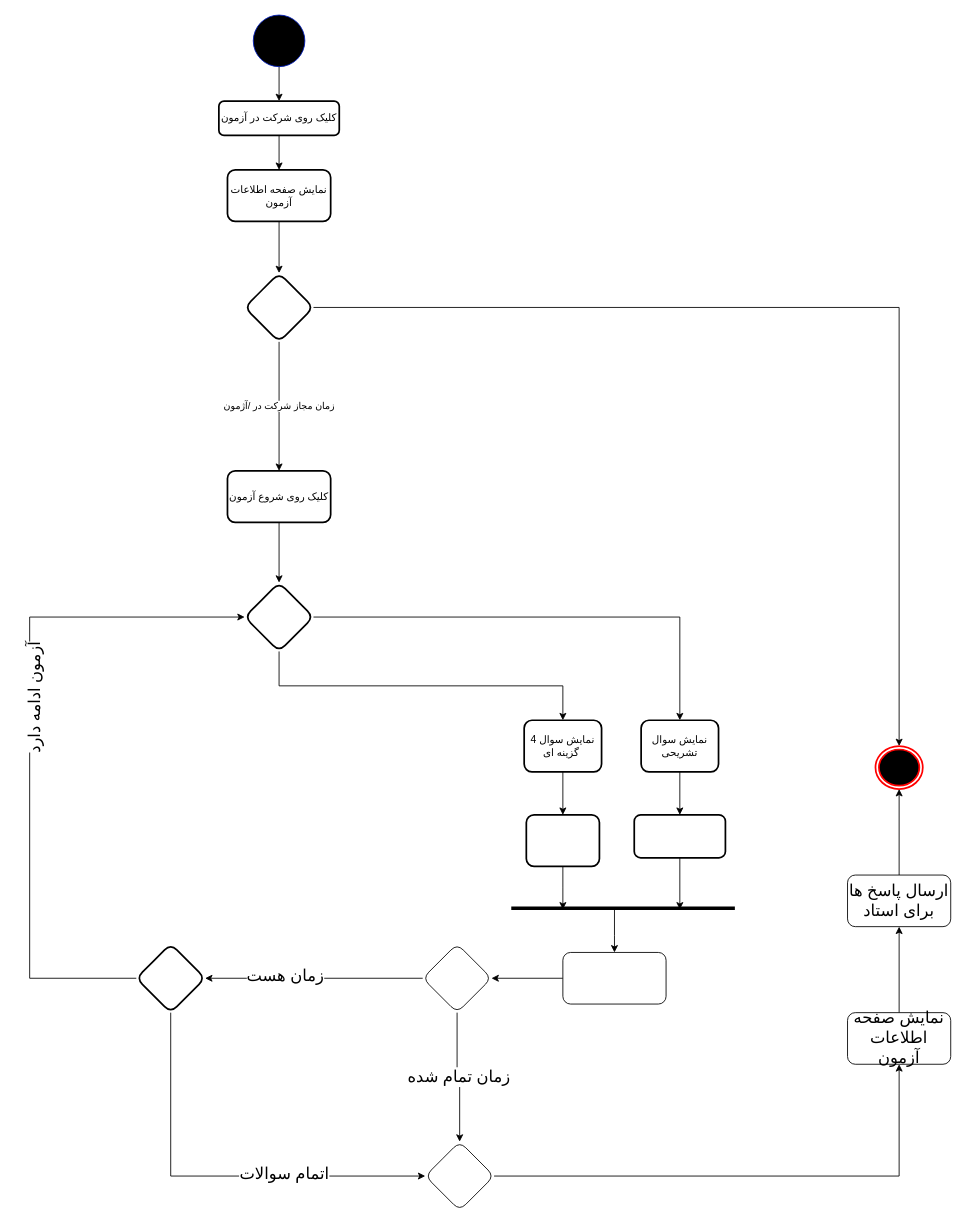
Image size: 966x1226. Some labels were removed from this diagram. The centre of each missing label's shape, as x and y in pixels:
"انتخاب یکی از گزینه ها" goes at point 562,840.
"ثبت پاسخ" goes at point 614,978.
"نوشتن پاسخ در باکس در نظر گرفته شده" goes at point 679,836.
